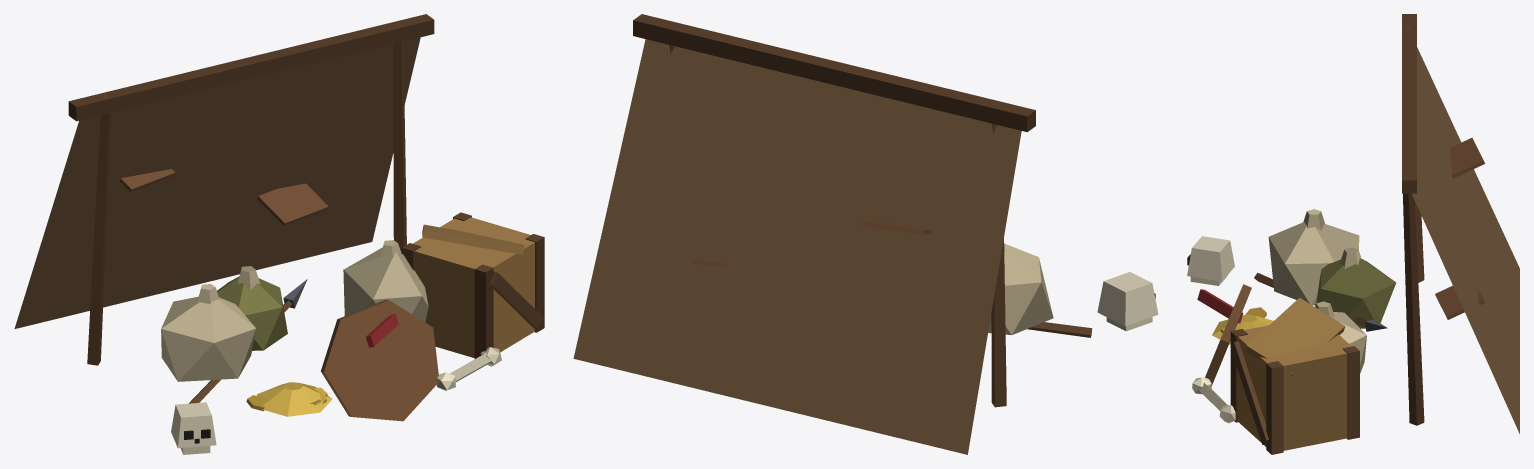
The model's file is goblin_loot.glb.
3 views of the same model, side by side, from view 1: azimuth 30°, elevation 25°; view 2: azimuth 150°, elevation 25°; view 3: azimuth 270°, elevation 25° (orthographic). The views are drawn at different scales.
Visible parts, largest first — view 1: goblin_loot; view 2: goblin_loot; view 3: goblin_loot.
Part boxes in pixels (bbox=[...]): goblin_loot: bbox=[14, 14, 544, 454]; goblin_loot: bbox=[573, 14, 1158, 454]; goblin_loot: bbox=[1187, 14, 1519, 454].
Bounding box in the file's own units: 2.37 × 1.64 × 1.78.
